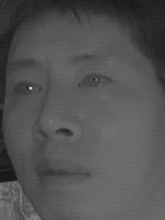eye: (74, 68, 116, 95), (10, 75, 43, 101)
mouth: (33, 149, 90, 192)
